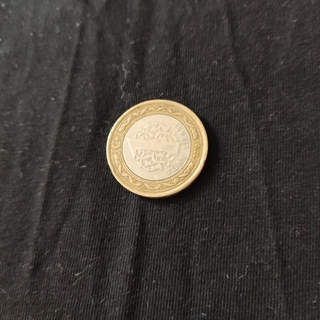1TL: (104, 97, 210, 199)
